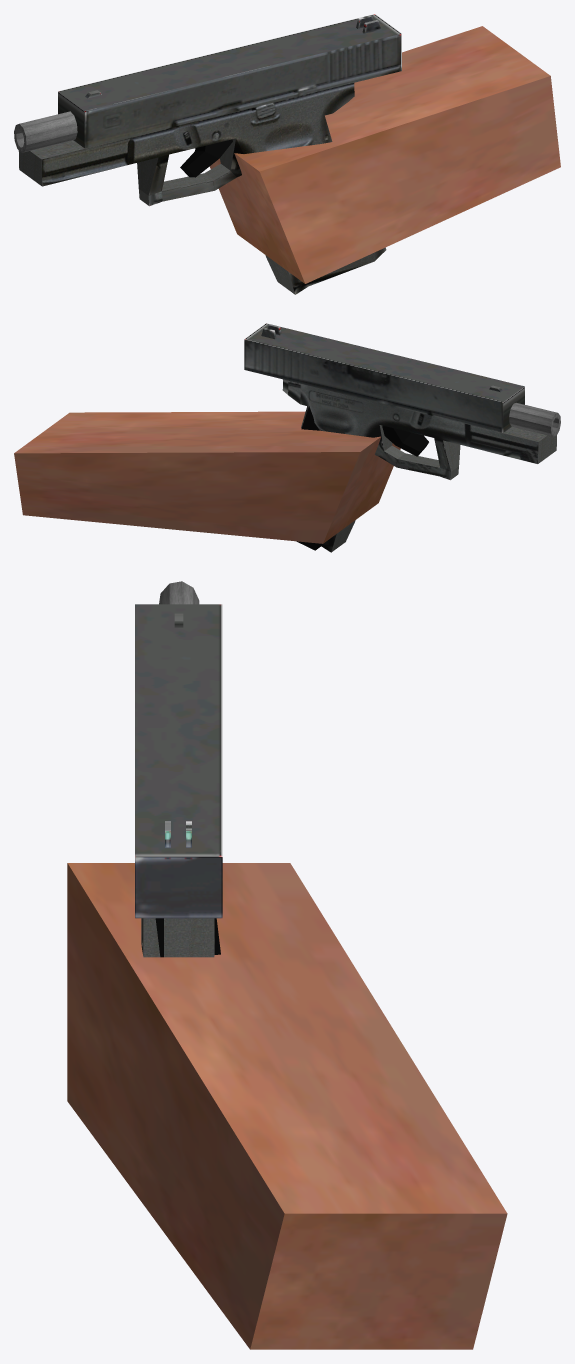
File: pistol_000044.obj
3 renders of one model, top to bottom at view 1: azimuth 30°, elevation 25°; view 2: azimuth 150°, elevation 25°; view 3: azimuth 270°, elevation 25°, orthographic. The views are drawn at different scales.
Visible parts, largest first — view 1: Cube, Cube.001, Cube.003; view 2: Cube, Cube.001, Cube.003, Cube.002; view 3: Cube, Cube.001.
Boxes of the visible parts, <box> form: Cube: <box>14,26,560,294</box>; Cube.001: <box>58,14,401,148</box>; Cube.003: <box>180,139,232,177</box>; Cube: <box>14,379,560,552</box>; Cube.001: <box>244,323,524,432</box>; Cube.003: <box>382,425,428,456</box>; Cube.002: <box>296,406,321,550</box>; Cube: <box>67,581,507,1349</box>; Cube.001: <box>135,604,222,918</box>.
Bounding box in the file's own units: 1.74 × 0.735 × 0.7214.
